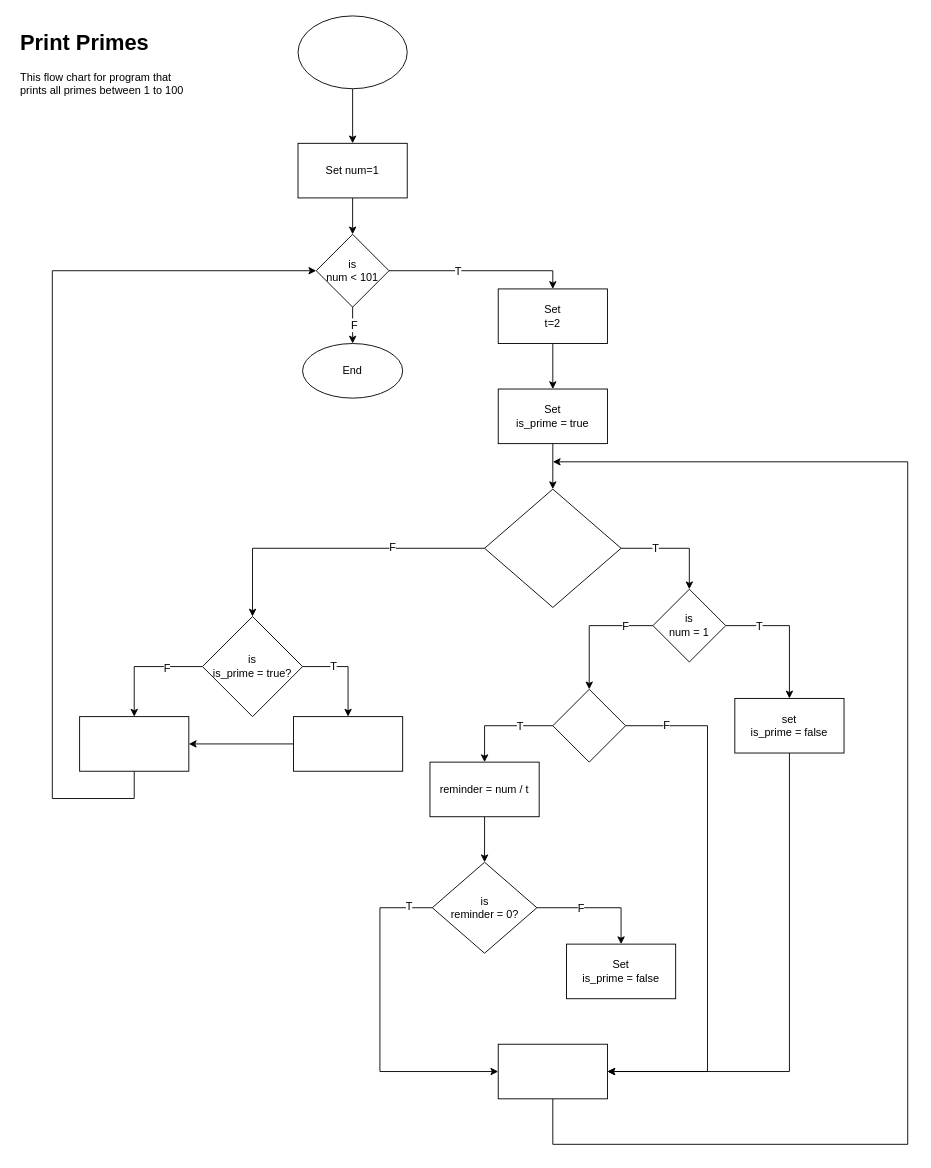
The diagram is 931 pixels wide and 1168 high, and some of its shapes have lost their labels. The centre of each missing label's shape, as x and y in pixels:
"is num = 2" belongs at point 589,725.
"is t < num and is_prime = true?" belongs at point 552,547.
"num = num + 1" belongs at point 134,743.
"print num" belongs at point 348,743.
"Start" belongs at point 352,52.
"t = t + 1" belongs at point 552,1071.
